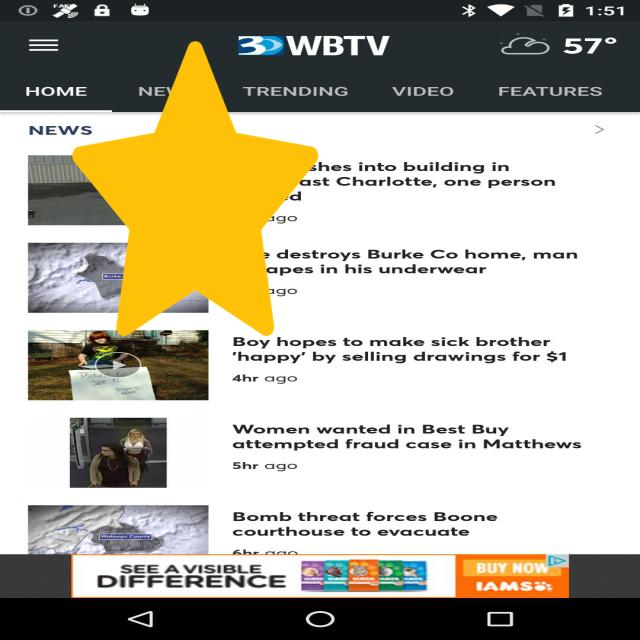forced continuity: (72, 41, 318, 336)
